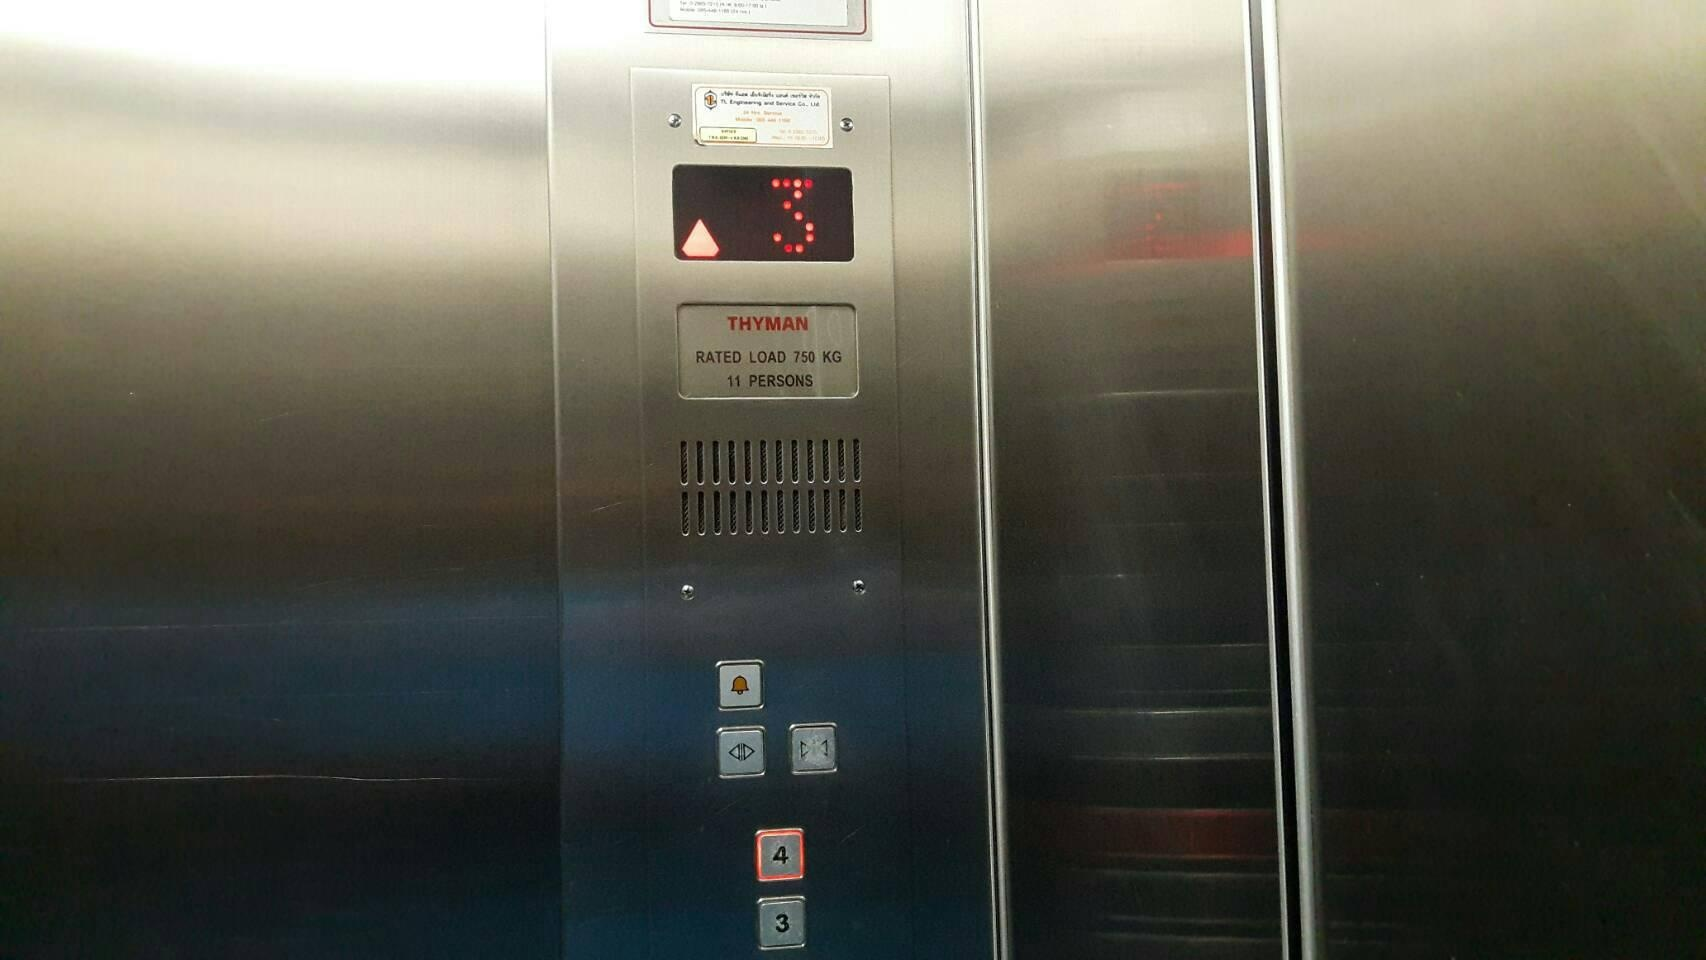3: (755, 896, 807, 953)
4: (753, 828, 804, 884)
alarm: (715, 658, 767, 712)
close: (785, 721, 840, 777)
led: (673, 165, 855, 264)
open: (715, 724, 767, 782)
